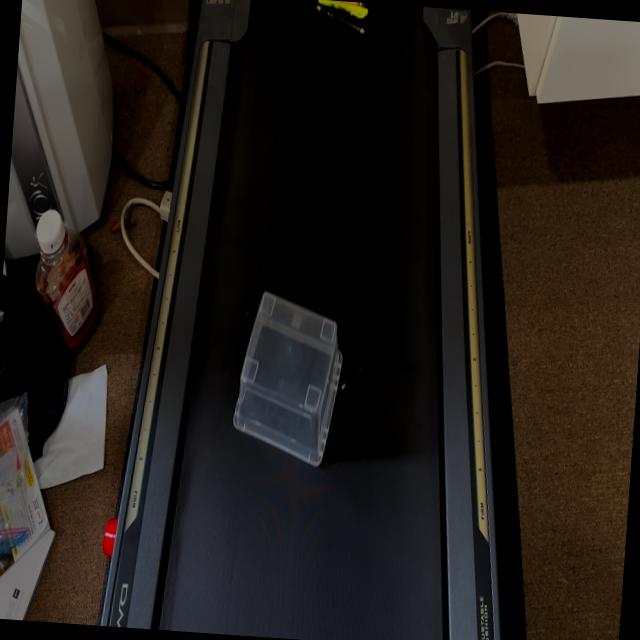Trash: (223, 276, 364, 466), (298, 0, 425, 52)
